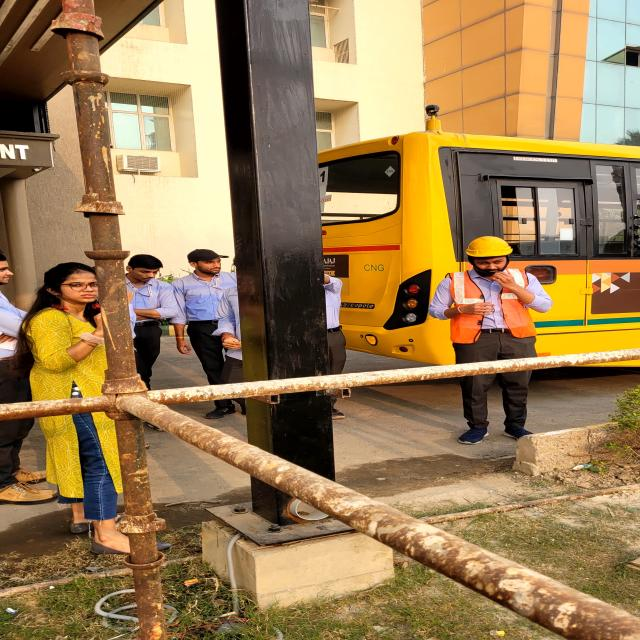safe: (419, 233, 557, 449)
unsafe: (15, 260, 142, 555), (173, 249, 240, 415), (127, 252, 173, 396)
